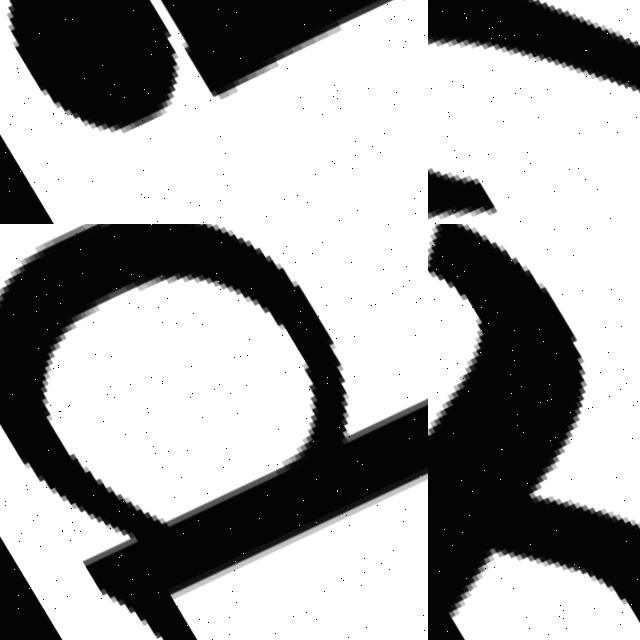2: (428, 0, 640, 224)
I: (0, 0, 428, 208)
P: (0, 224, 428, 640)
X: (428, 224, 640, 640)
